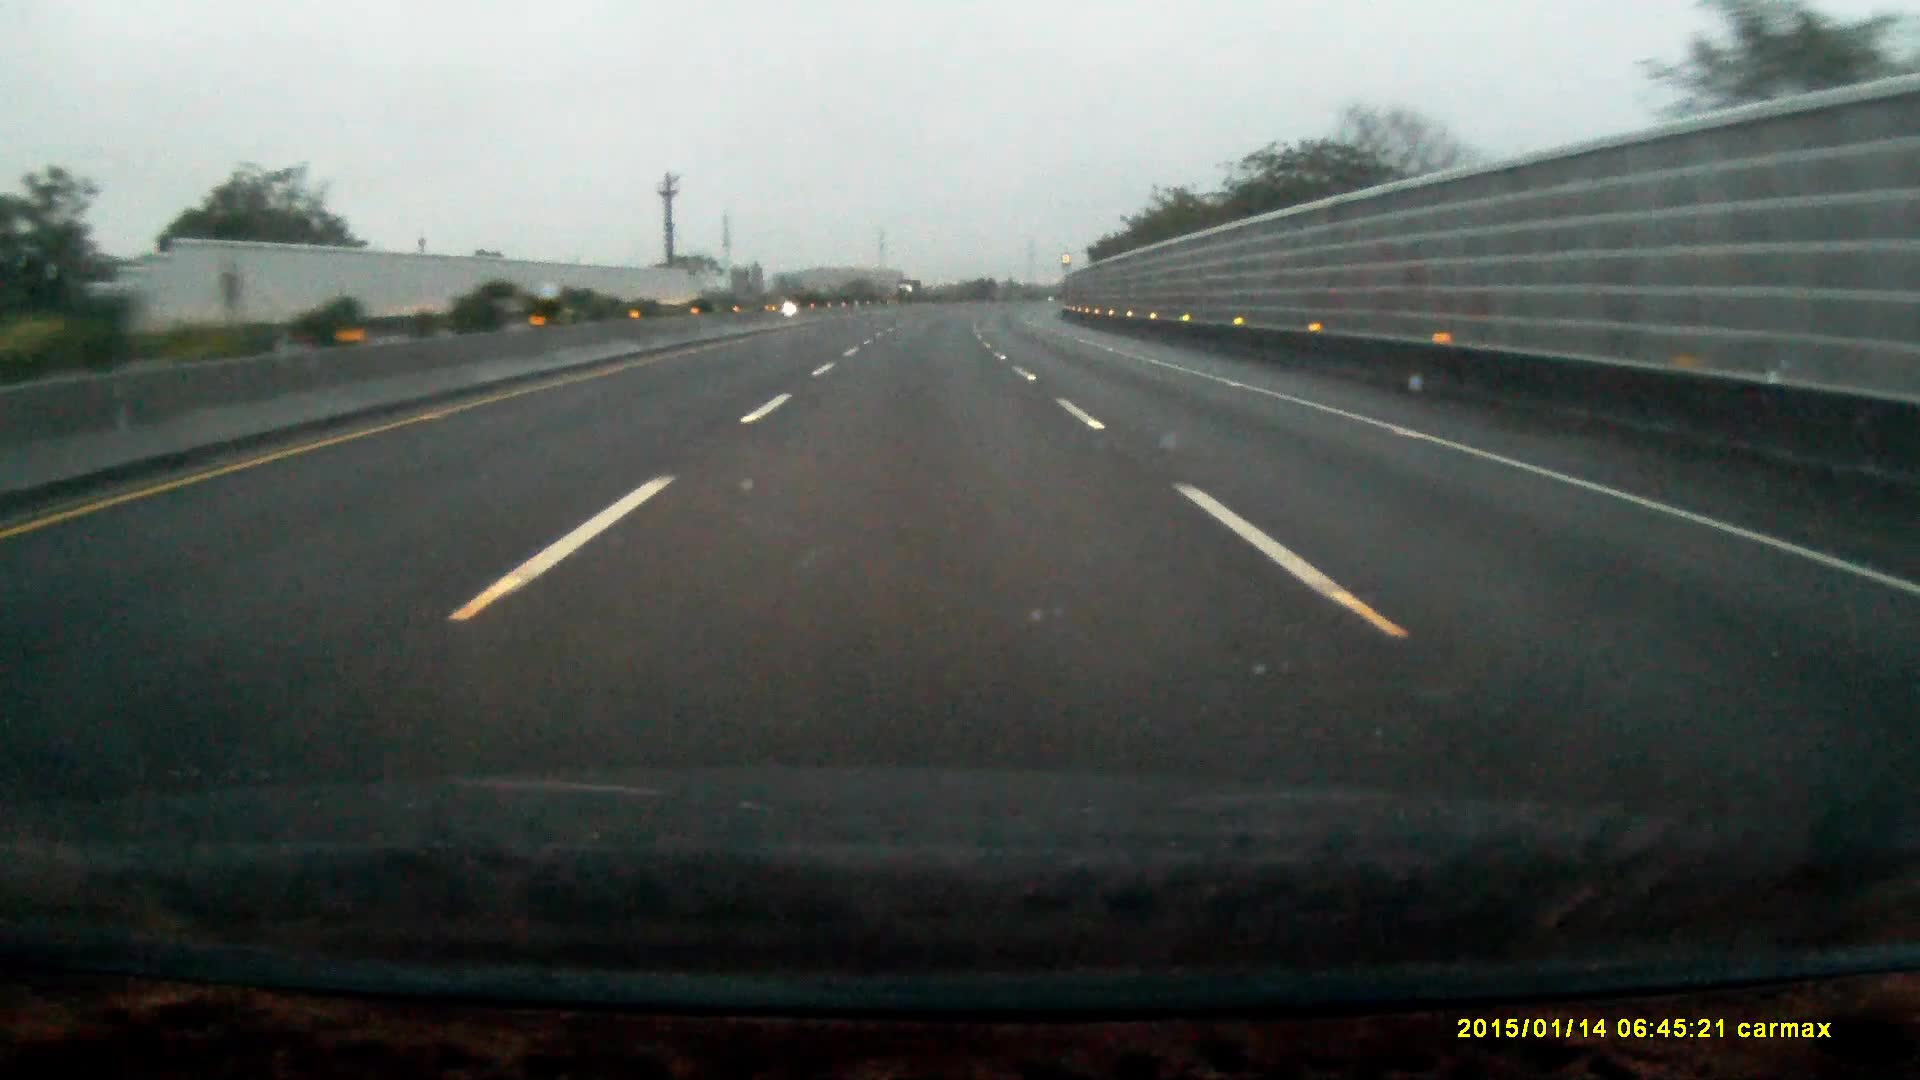vehicle: (897, 280, 922, 302)
